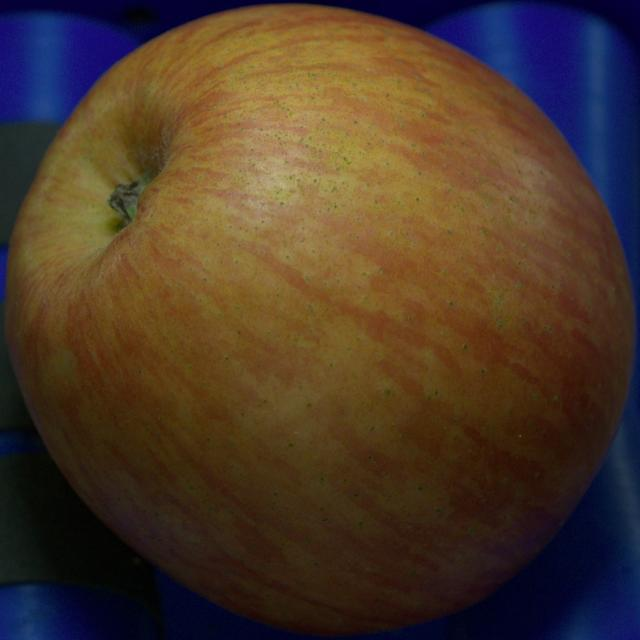apple: (6, 5, 634, 632)
